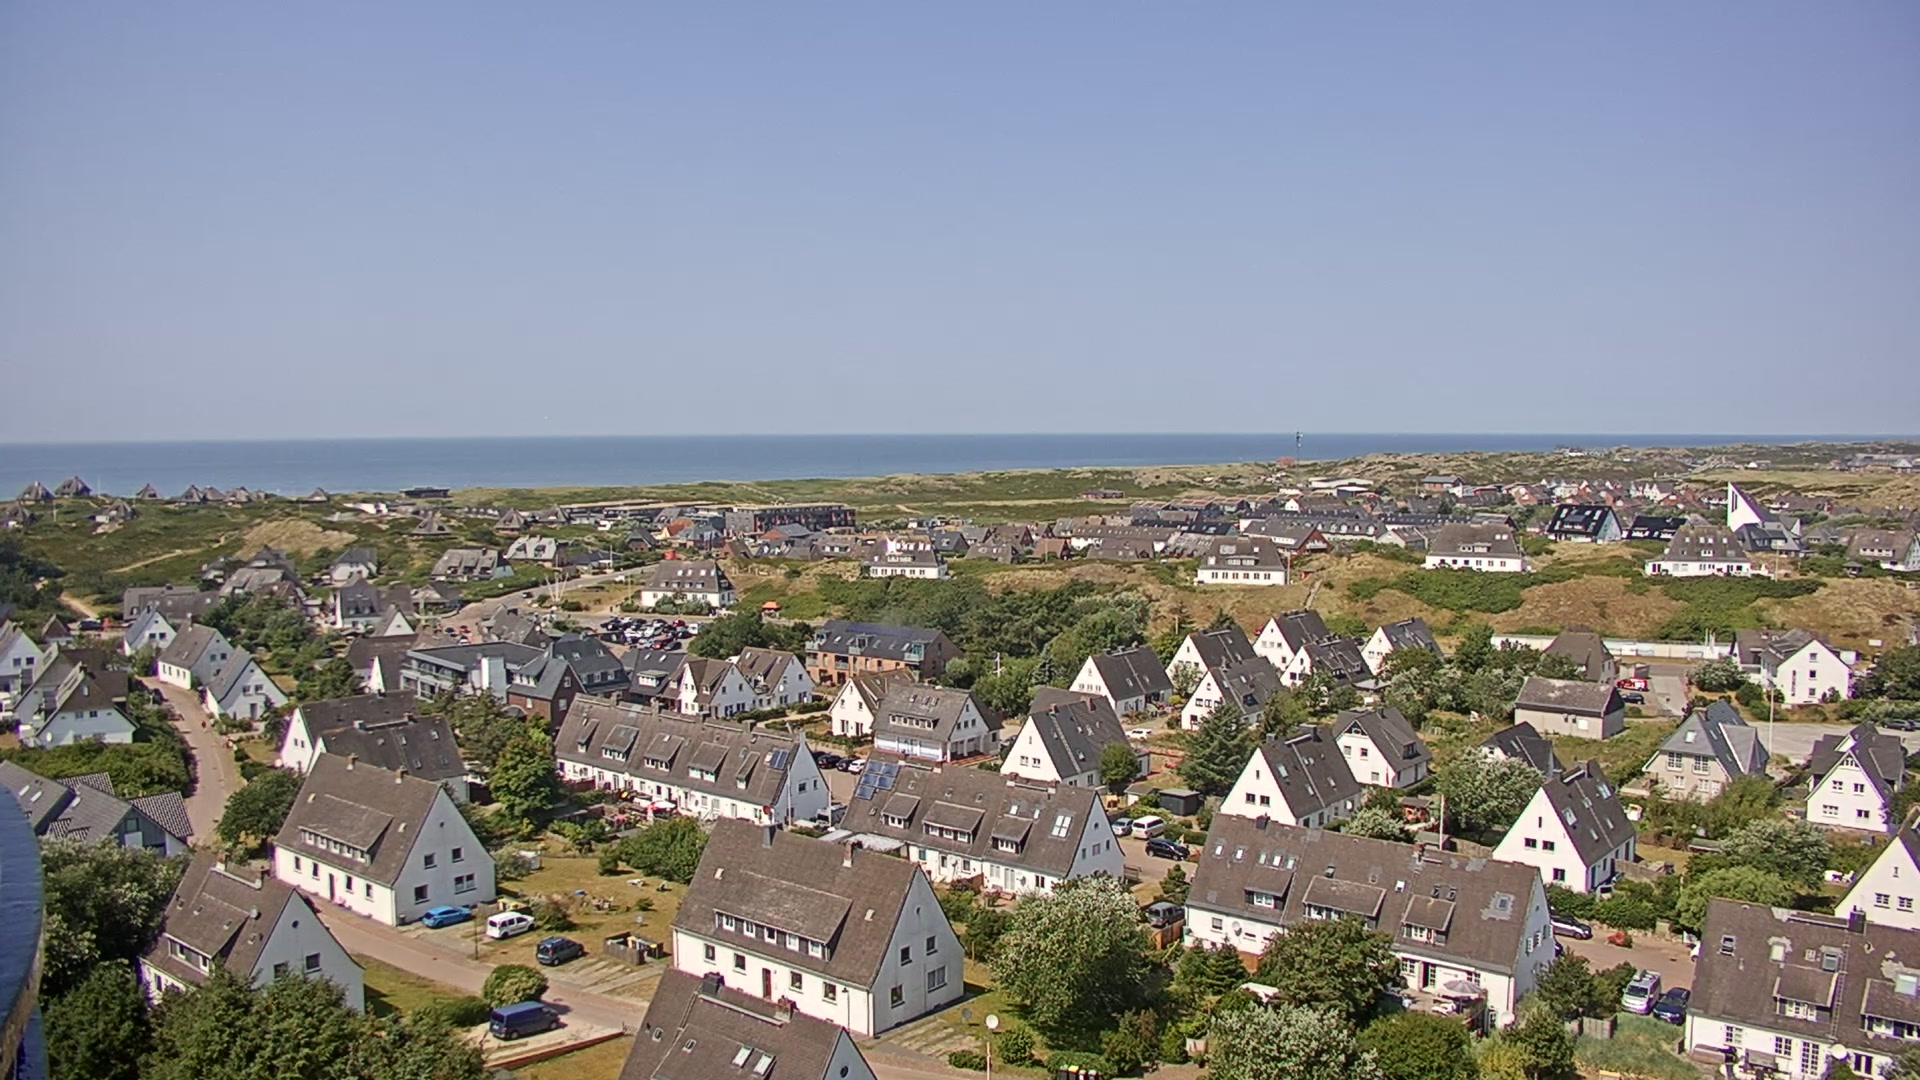human: (200, 719, 207, 732)
land: (488, 1001, 562, 1041), (1619, 968, 1662, 1015), (1651, 985, 1691, 1026), (535, 934, 584, 965), (485, 912, 538, 941), (422, 905, 474, 929), (1240, 981, 1279, 1012), (1145, 902, 1185, 930), (1144, 839, 1191, 862), (1549, 915, 1593, 940), (1128, 815, 1168, 841), (1108, 818, 1134, 837), (1616, 676, 1647, 692), (1122, 727, 1152, 743), (1880, 717, 1913, 732), (78, 617, 105, 630), (816, 755, 844, 769), (1620, 691, 1645, 706), (660, 638, 683, 652), (845, 757, 865, 773), (650, 636, 671, 650), (834, 756, 852, 771), (1904, 716, 1920, 730), (623, 627, 639, 640), (643, 626, 663, 637), (1601, 883, 1613, 900), (624, 619, 639, 629), (668, 631, 692, 638), (650, 618, 668, 626), (687, 622, 699, 634), (520, 589, 534, 599), (672, 617, 686, 626), (608, 621, 620, 630), (443, 626, 456, 634), (662, 623, 673, 632), (458, 624, 469, 632), (600, 633, 611, 640), (641, 617, 648, 626), (641, 641, 650, 648), (345, 635, 356, 640)
